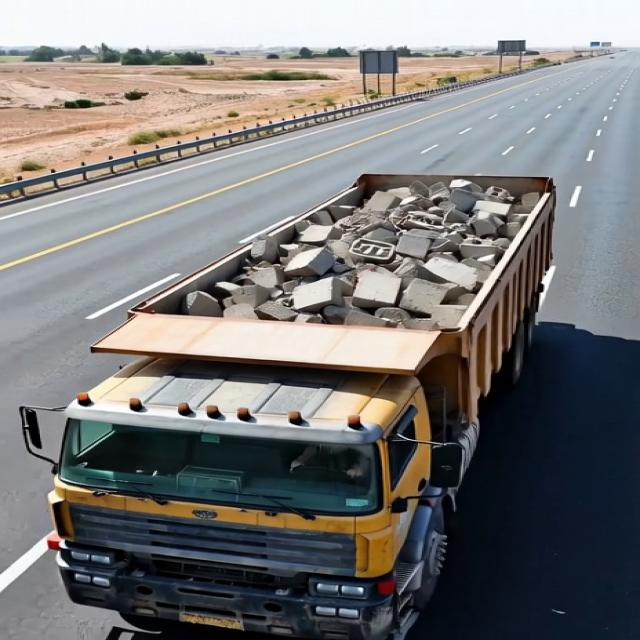trailer: (89, 173, 557, 360)
truck: (14, 156, 614, 627)
